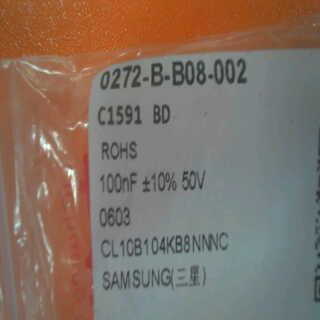100nF: (98, 170, 139, 195)
